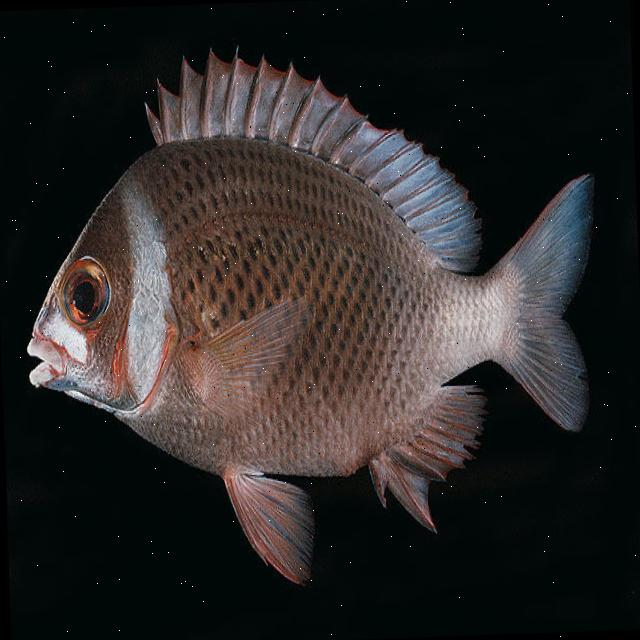ikan: (14, 32, 608, 596)
